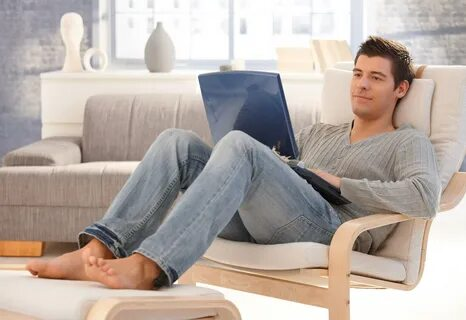awake: (26, 34, 442, 290)
